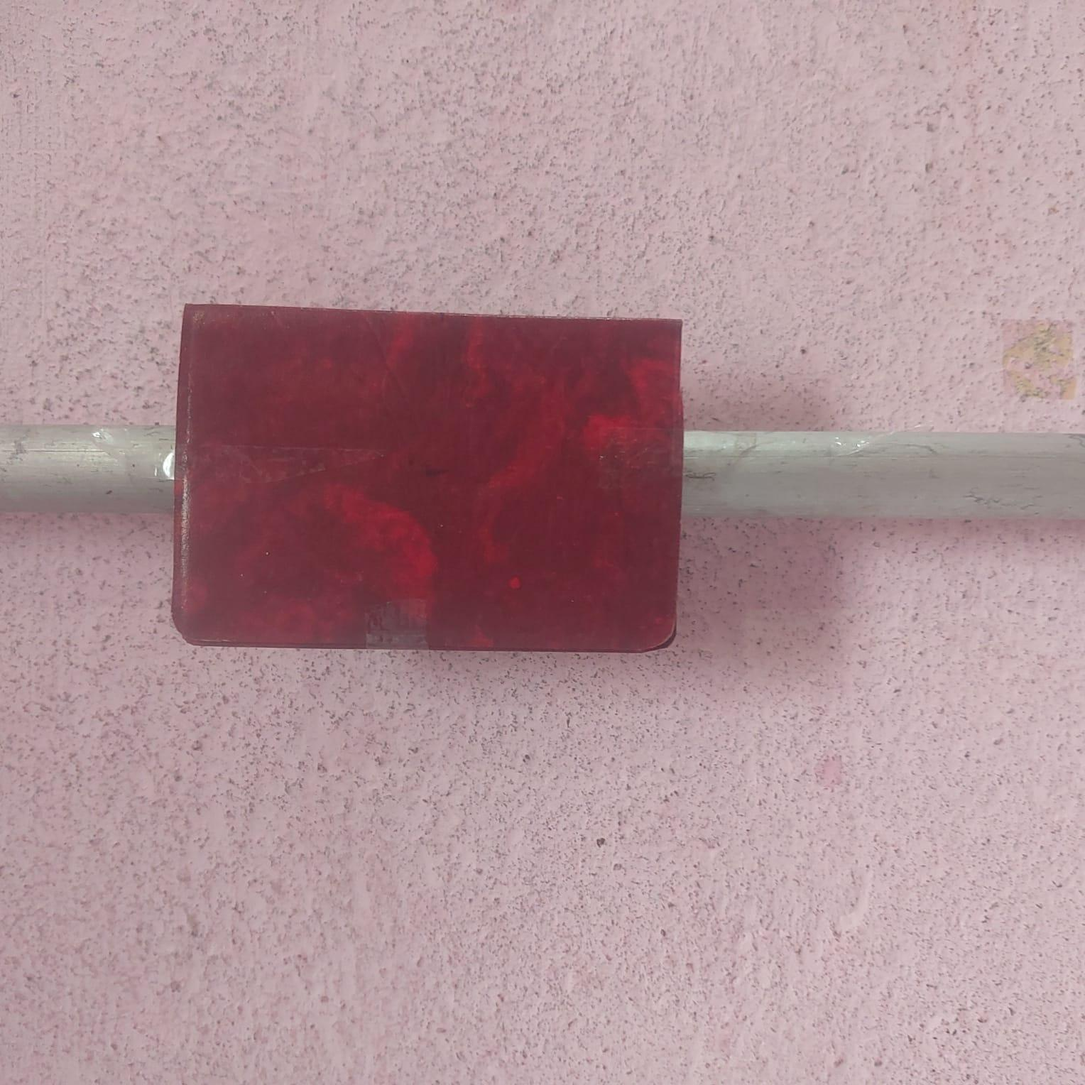wallet: (169, 297, 689, 658)
